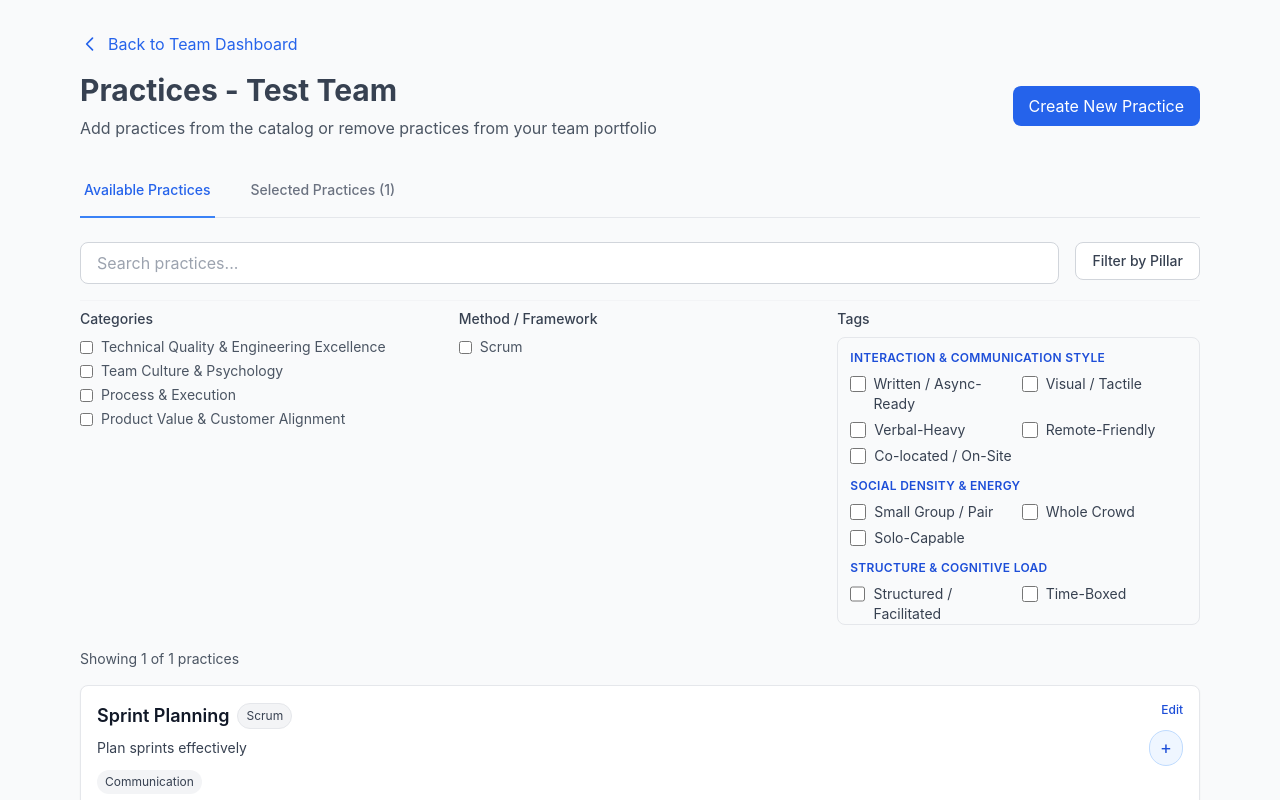
Test: ManagePracticesView › renders pillar options from complete store list, not visible card subset
What coordinates should you click on to do the following:
click the button "Filter by Pillar"
I would click on:
 (1138, 261)
Its box is [1075,242,1200,280].
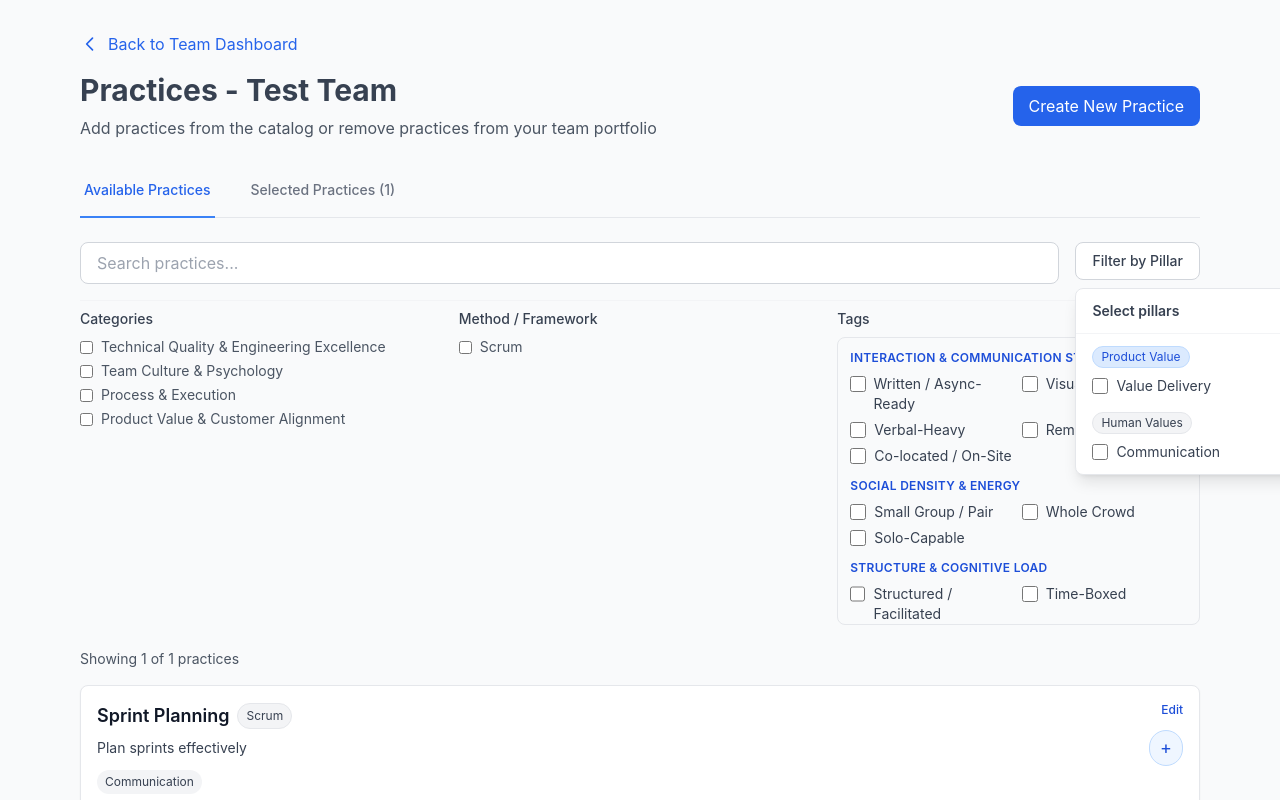
Result: the checkbox labelled "Communication" is shown at [1092,444,1108,460]
Result: the checkbox labelled "Value Delivery" is shown at [1092,378,1108,394]
